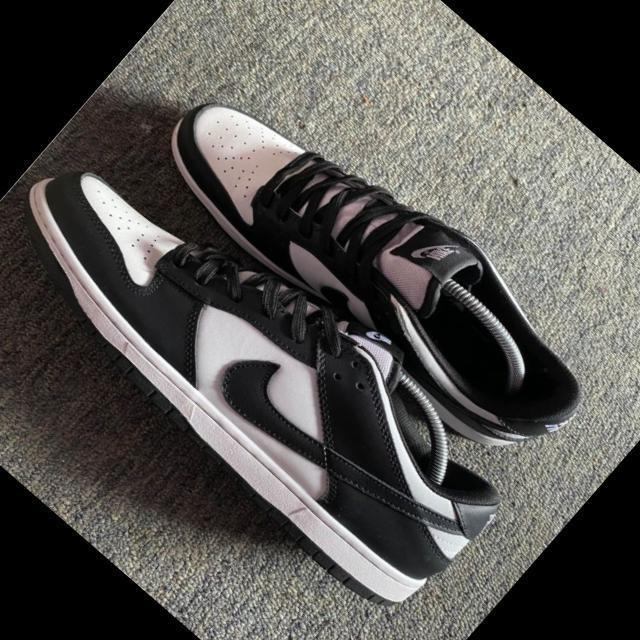nike original jordan 1: (0, 92, 545, 637), (131, 42, 618, 497)
